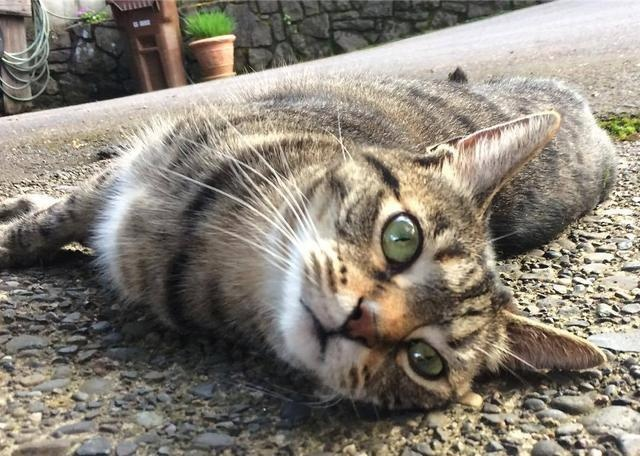cat: (1, 66, 617, 413)
